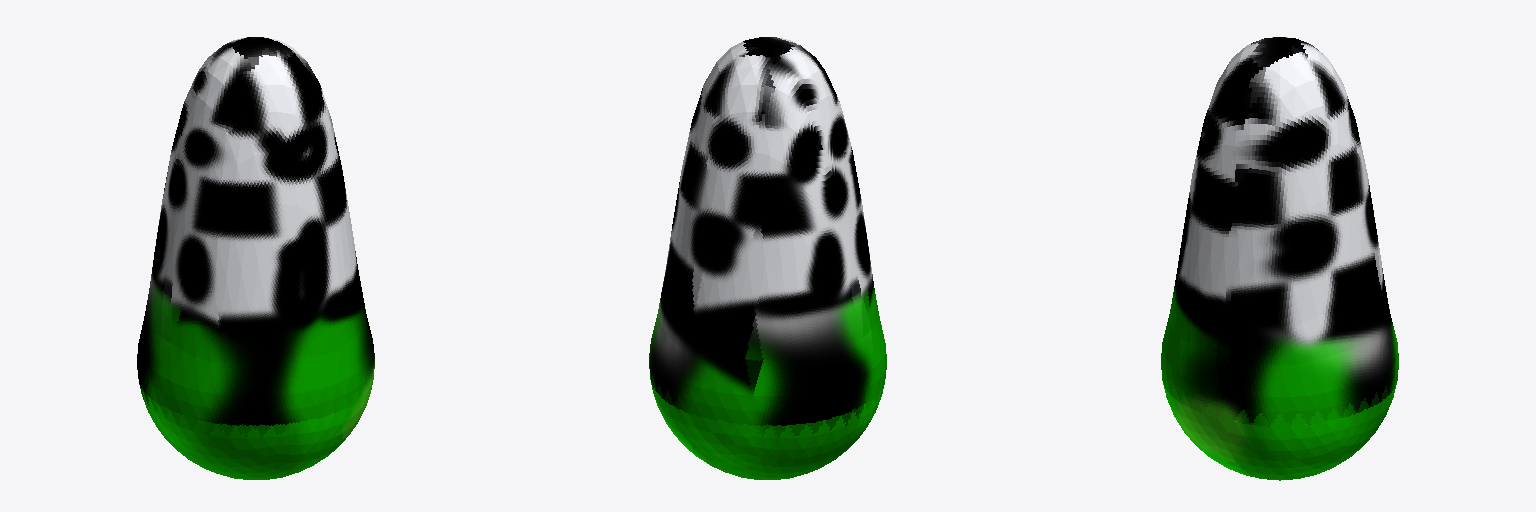
3 views of the same model, side by side, from view 1: azimuth 30°, elevation 25°; view 2: azimuth 150°, elevation 25°; view 3: azimuth 270°, elevation 25° (orthographic).
Visible parts, largest first — view 1: Icosphere; view 2: Icosphere; view 3: Icosphere.
Boxes of the visible parts, <box> form: Icosphere: <box>137,37,374,479</box>; Icosphere: <box>649,37,886,479</box>; Icosphere: <box>1161,37,1398,480</box>.
Size of the model in its own units: 8 by 15.81 by 8.
Materials: 1 (1 with a texture image).